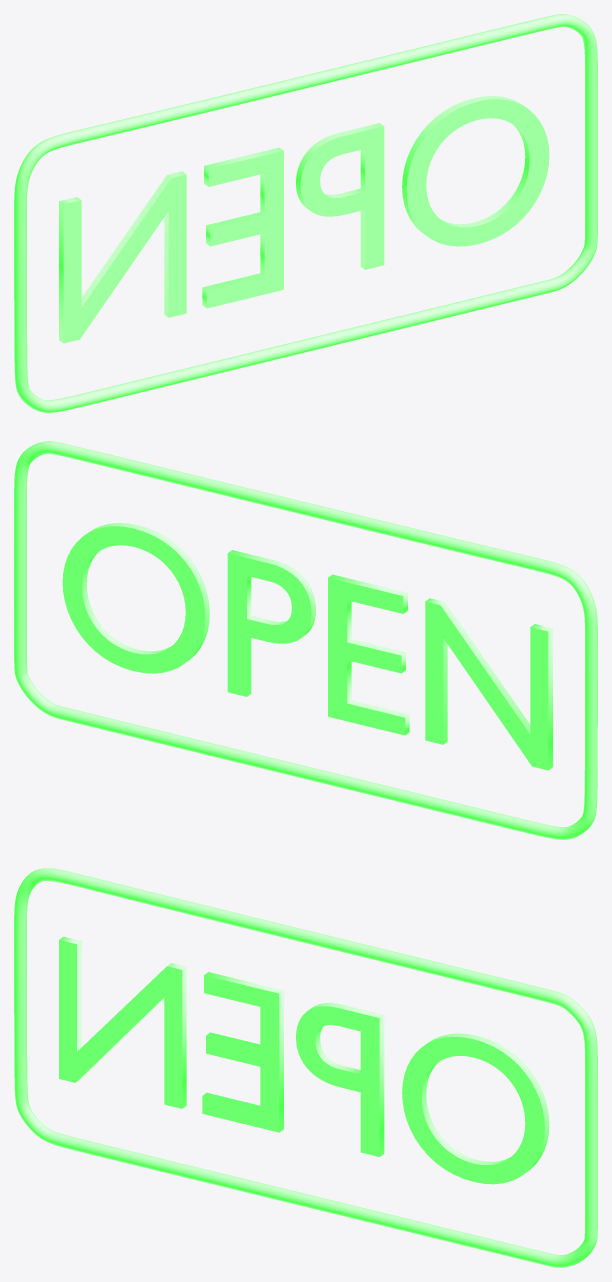
The model's file is open.glb.
The picture shows the model from 3 angles, top to bottom: view 1: azimuth 30°, elevation 25°; view 2: azimuth 150°, elevation 25°; view 3: azimuth 330°, elevation 25°; orthographic projection.
Parts seen in each view (by area): view 1: Object_6; view 2: Object_6; view 3: Object_6.
Part boxes in pixels (box(x1,y1,x2,y2)): Object_6: box(14, 14, 597, 412); Object_6: box(14, 441, 597, 839); Object_6: box(14, 868, 597, 1267).
Size of the model in its own units: 4.18 by 1.9 by 0.08.
